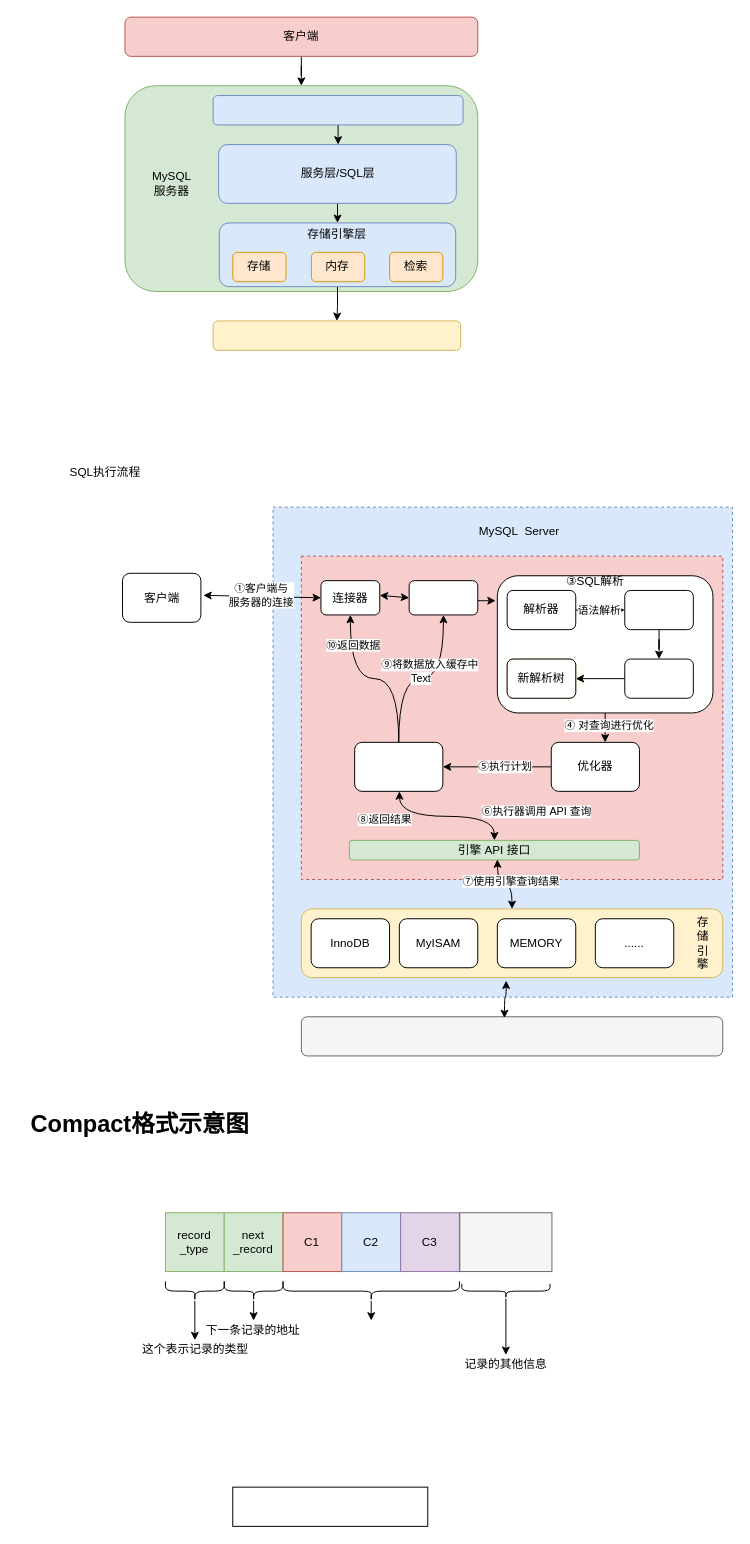
This 750x1544 diagram has some shape labels left out. The shapes that lost their labels are listed below. From the top down, each one's centre as x and y in pixels, then its label:
At (x=337, y=110): "连接层".
At (x=336, y=335): "文件系统层".
At (x=443, y=597): "②查询缓存".
At (x=658, y=609): "解析树".
At (x=658, y=678): "预处理器".
At (x=398, y=766): "执行器".
At (x=511, y=1036): "系统文件".
At (x=505, y=1242): "其他信息".
At (x=370, y=1290): "各个列的记录值".
